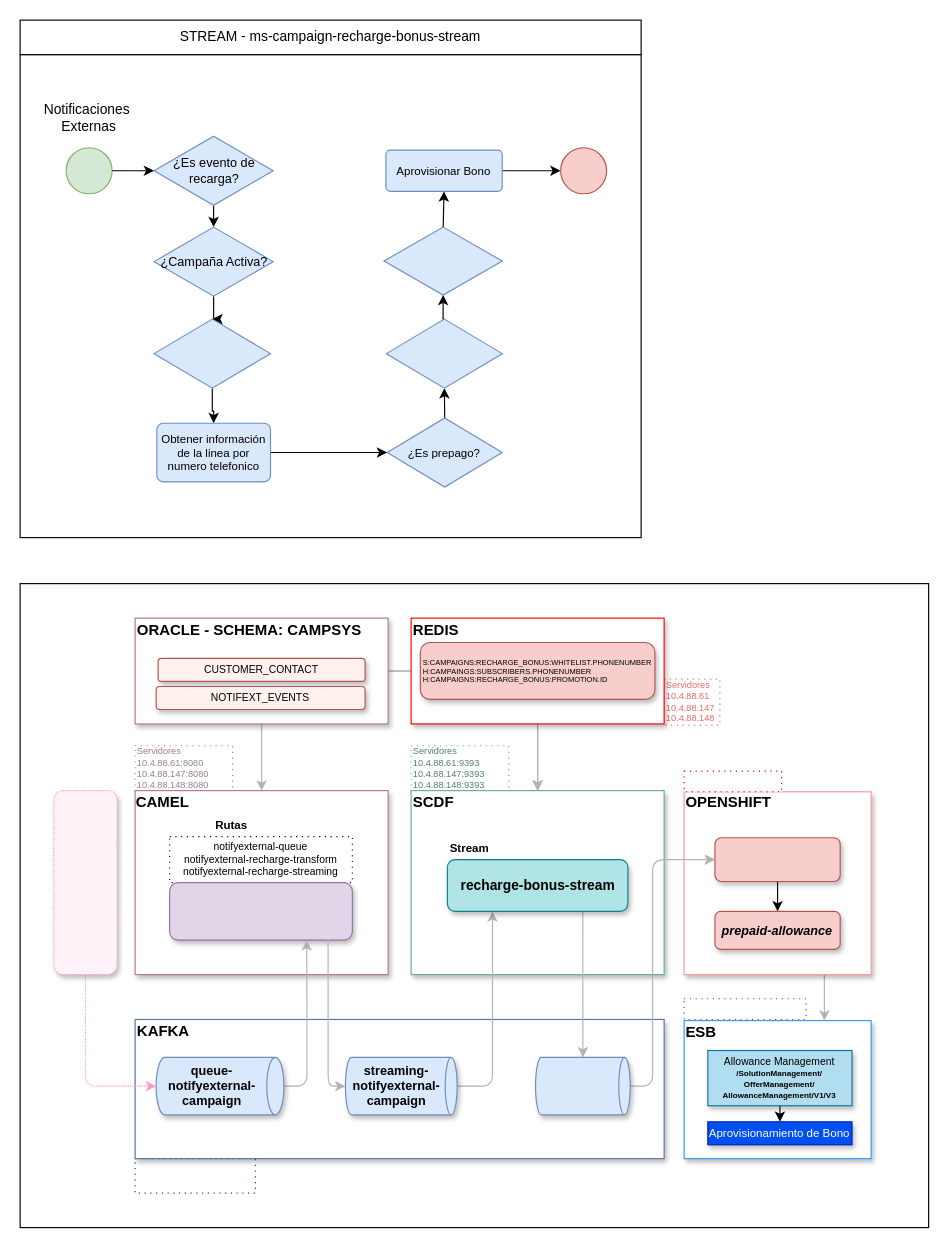
Some shapes in this 949 by 1248 pixel diagram are drawn without their labels. Here are the shapes that lost their labels. From the top down, the centre of each, then its label:
At (442,260): "¿Es preplan?".
At (211,353): "¿El monto de recarga es valido(s/7)?".
At (443,353): "¿El tipo de documento es valido?".
At (732,781): "apps.ocpprod.gp.inet".
At (778,861): "provisioning-api".
At (86,884): "Eventos de Notificaciones Externas".
At (261,912): "campaign-integration".
At (744,1008): "esbprodbm.simple.gp.inet".
At (583,1087): "queue-provisioning-api".
At (194,1175): "Servidores 10.4.88.109, 10.4.88.119, 10.4.88.138, 10.4.88.144".
